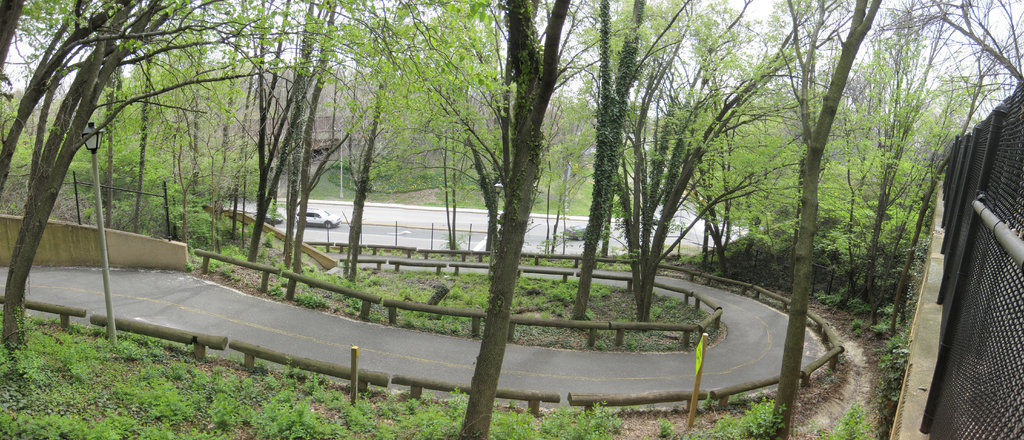Tree: (0, 0, 1023, 438)
